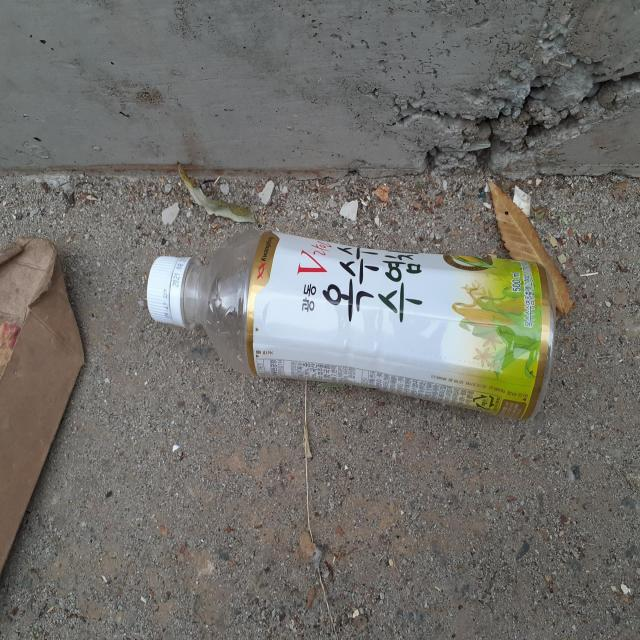plastic: (146, 229, 556, 419)
